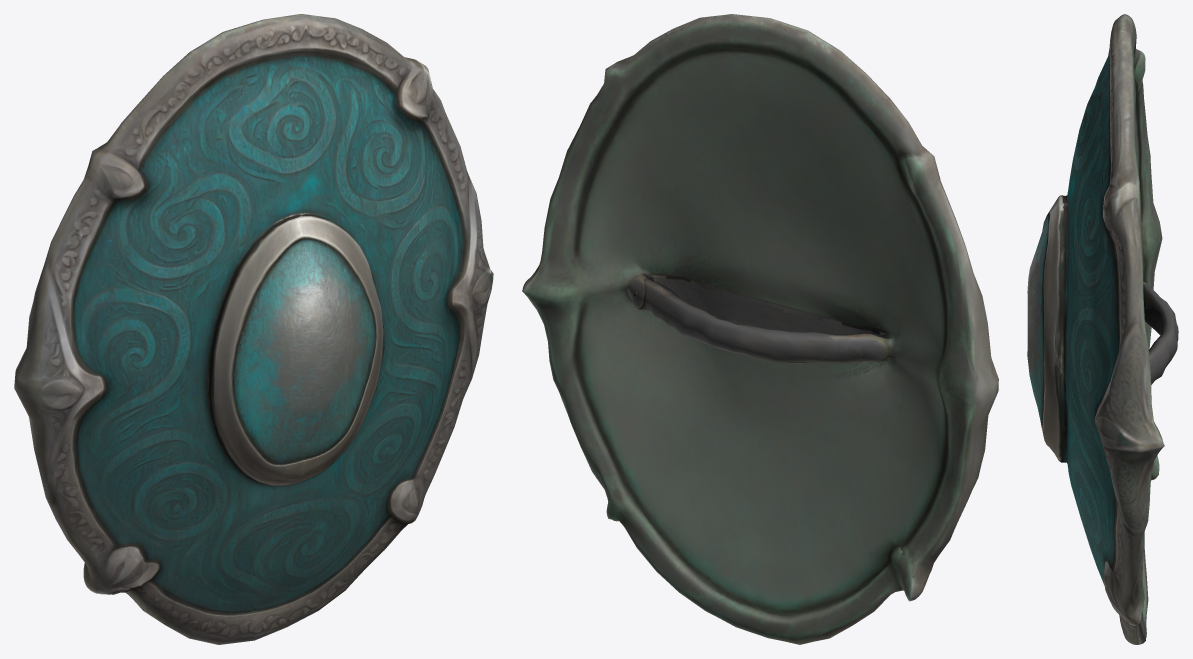
Rendered from PF_Shield5.glb.
3 renders of one model, left to right at view 1: azimuth 30°, elevation 25°; view 2: azimuth 150°, elevation 25°; view 3: azimuth 270°, elevation 25°, orthographic. The views are drawn at different scales.
Bounding box in the file's own units: 1.6 × 2 × 0.4587.
1 material, 1 textured.
